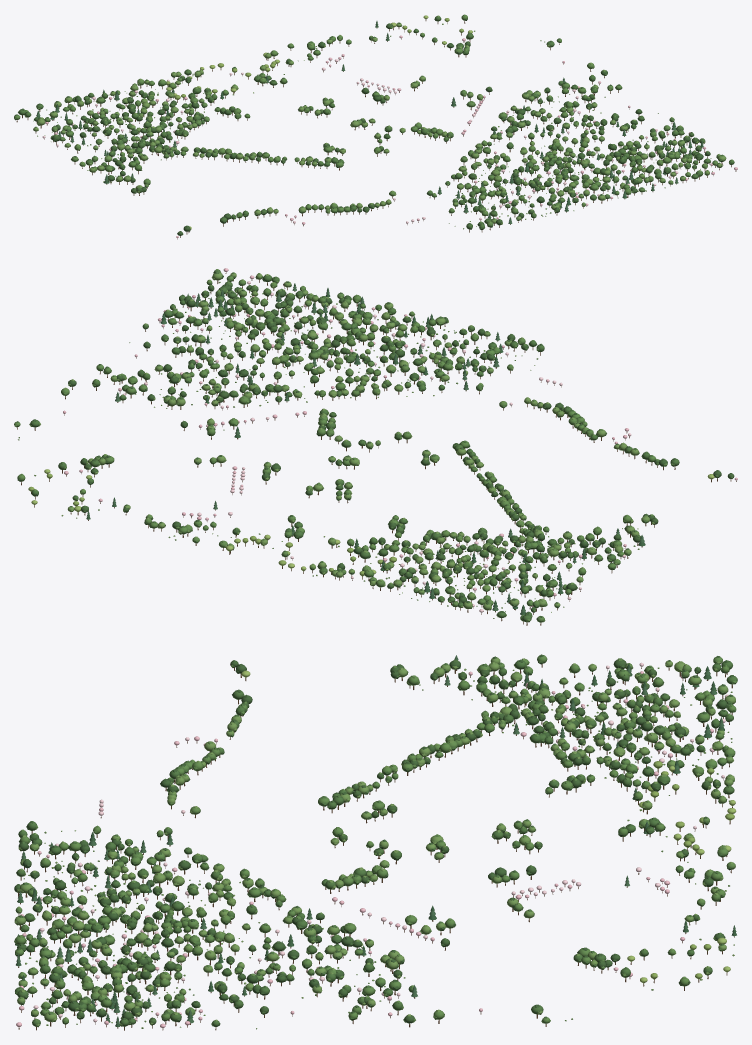
The picture shows the model from 3 angles, top to bottom: view 1: azimuth 30°, elevation 25°; view 2: azimuth 150°, elevation 25°; view 3: azimuth 270°, elevation 25°; orthographic projection. The views are drawn at different scales.
Bounding box in the file's own units: 36.2 × 0.8978 × 30.18.
